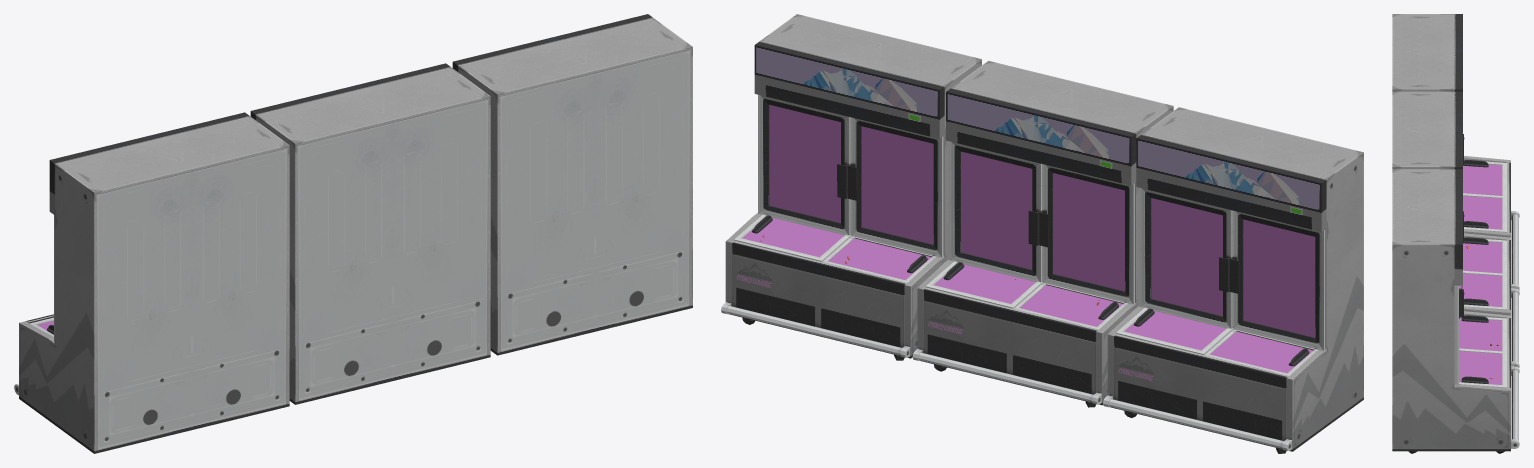
File: Market_07.obj
3 renders of one model, left to right at view 1: azimuth 30°, elevation 25°; view 2: azimuth 150°, elevation 25°; view 3: azimuth 270°, elevation 25°, orthographic. The views are drawn at different scales.
Size of the model in its own units: 6.43 by 2.79 by 1.5.
33 materials, 33 textured.
